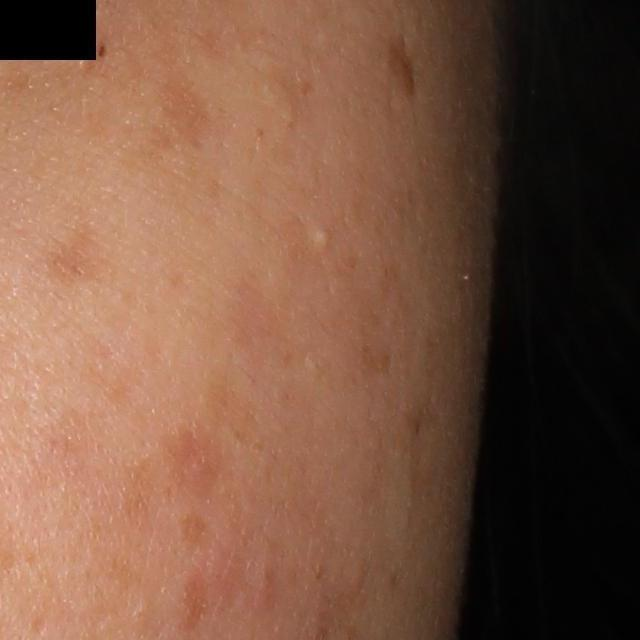atrophic_scar: (29, 614, 48, 635)
comedo: (311, 219, 331, 250)
melasma: (121, 71, 216, 170), (44, 205, 106, 290), (110, 452, 155, 532), (383, 31, 423, 107)
